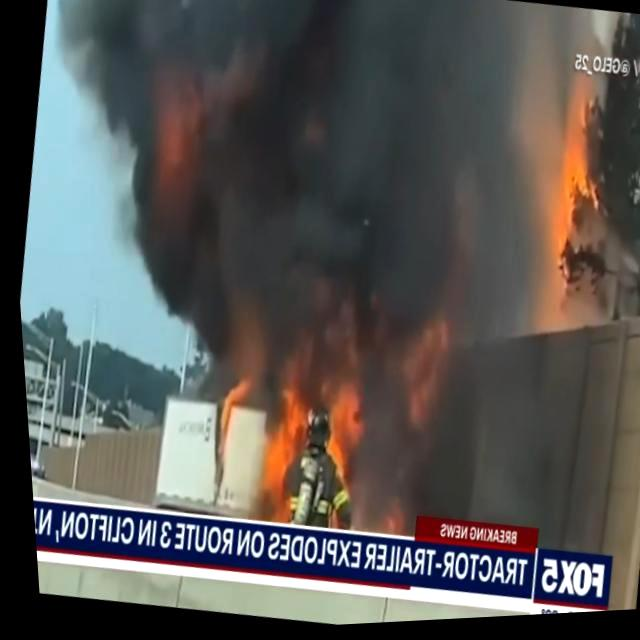fire: (526, 111, 618, 293), (314, 384, 372, 480), (238, 409, 288, 493)
